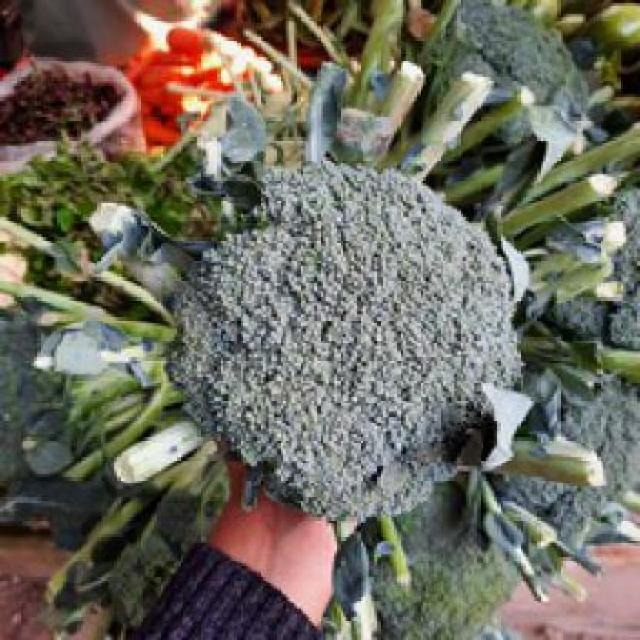broccoli: (114, 153, 580, 510)
